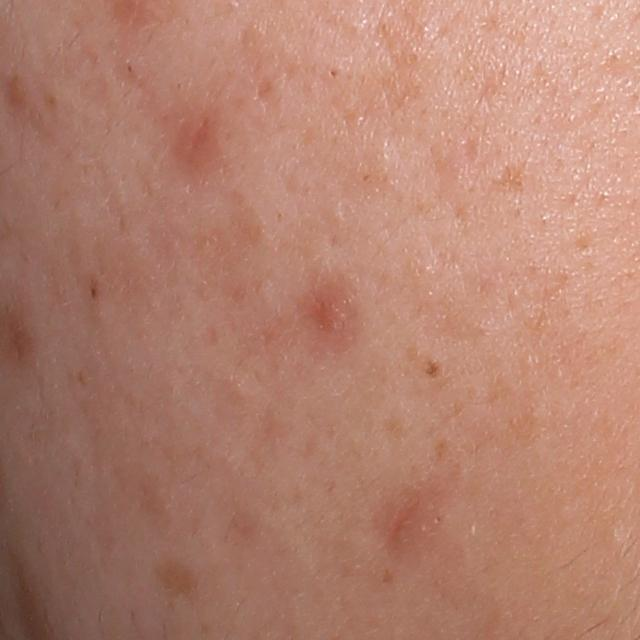comedo: (324, 64, 344, 82), (123, 62, 135, 75)
